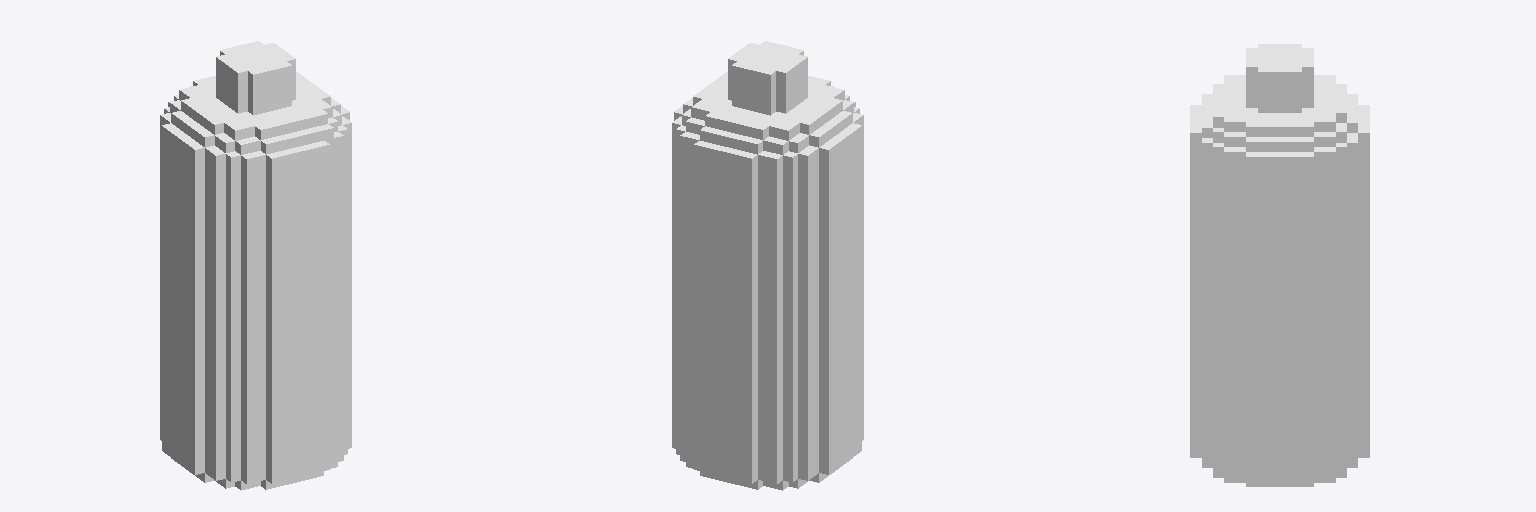
Rendered from waterbottle.obj.
3 views of the same model, side by side, from view 1: azimuth 30°, elevation 25°; view 2: azimuth 150°, elevation 25°; view 3: azimuth 270°, elevation 25° (orthographic).
Visible parts, largest first — view 1: object 1; view 2: object 1; view 3: object 1.
Part boxes in pixels (x1,y1,x2,y2): object 1: (160, 41, 351, 490); object 1: (672, 41, 863, 490); object 1: (1190, 44, 1369, 486).
Size of the model in its own units: 1.6 by 3.9 by 1.6.